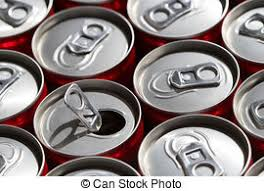can: (32, 78, 146, 156), (131, 38, 243, 114), (33, 3, 134, 73), (138, 117, 238, 177), (125, 0, 234, 40), (0, 0, 57, 39), (0, 43, 26, 120), (50, 160, 142, 178)
